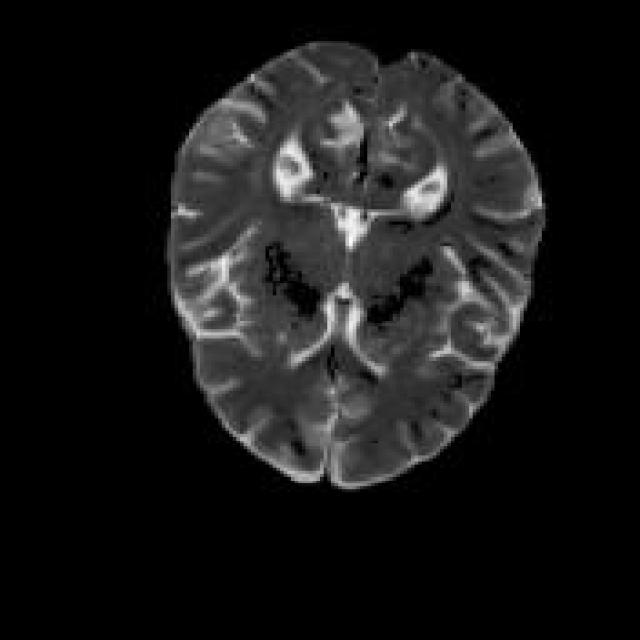parkinson: (164, 37, 546, 489)
